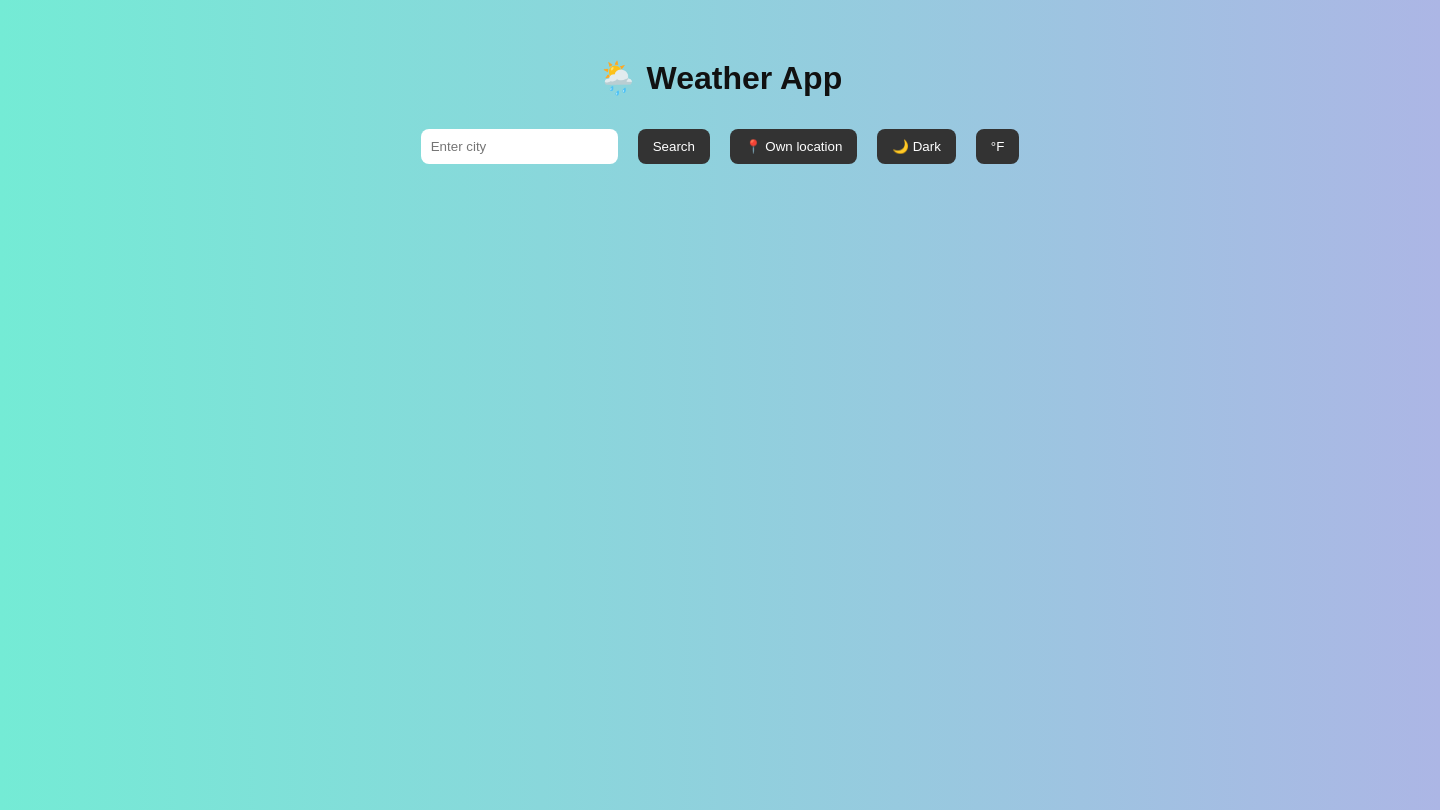
Test: Weather › fetches and displays weather and forecast on search
The image size is (1440, 810).
Type "Helsinki" into the field with placeholder "Enter city" at (519, 146), box [421, 129, 618, 164]
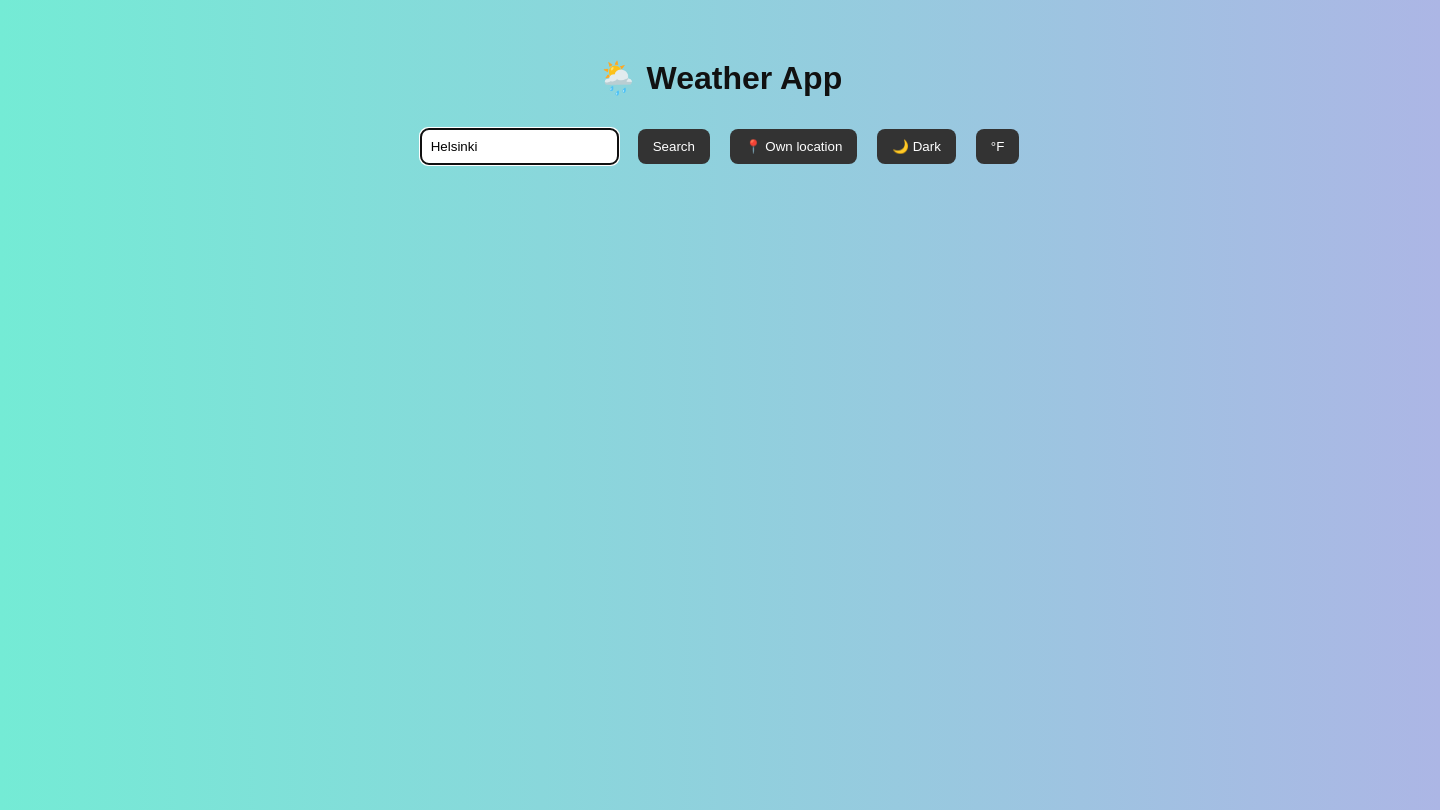
Click the button "Search" at (674, 146), box [638, 129, 710, 164]
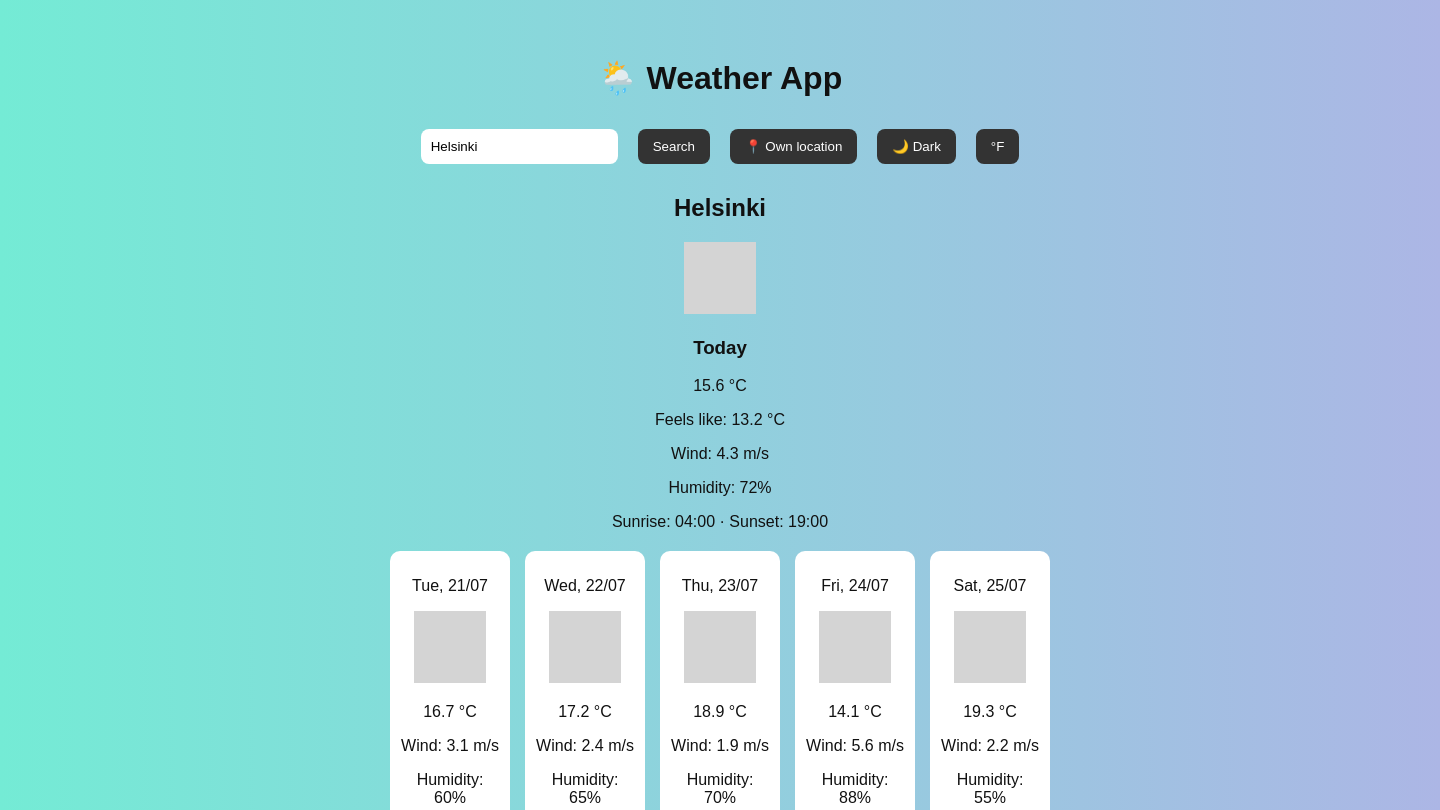
Check: the heading "Helsinki" is shown, box [674, 194, 766, 221]
Check: the text "15.6 °C" is shown, box [693, 377, 747, 394]
Check: the text "Wind: 4.3 m/s" is shown, box [671, 445, 769, 462]
